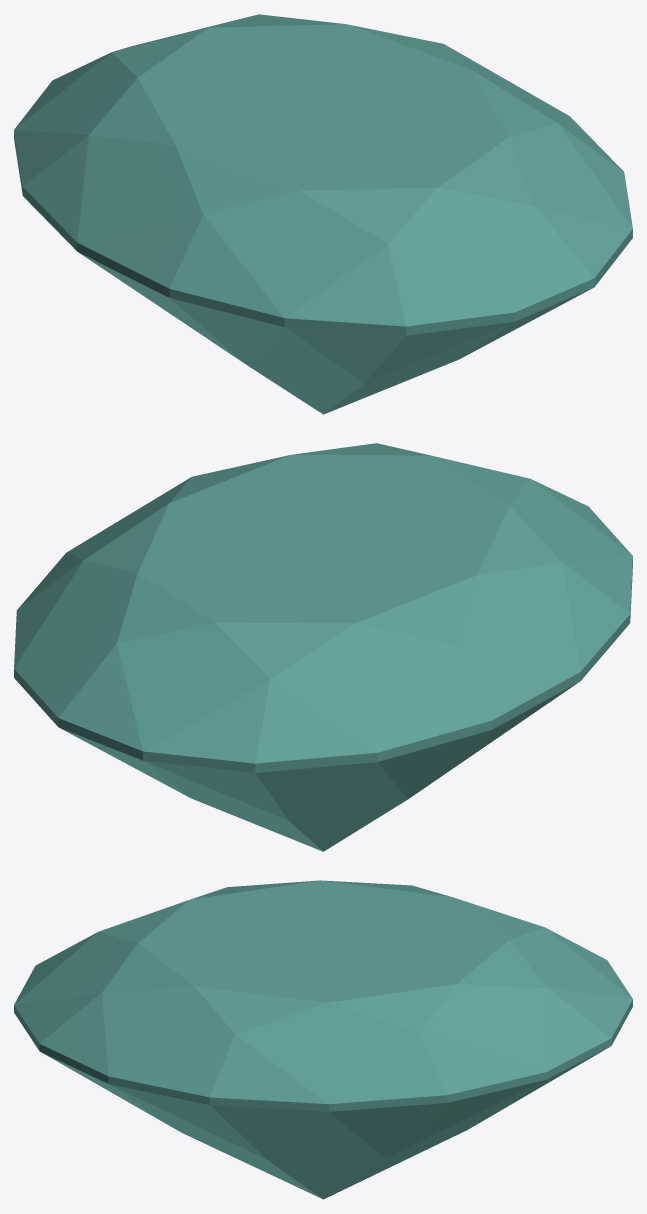
Rendered from stone-alexandrite.glb.
The picture shows the model from 3 angles, top to bottom: view 1: azimuth 30°, elevation 25°; view 2: azimuth 150°, elevation 25°; view 3: azimuth 270°, elevation 25°; orthographic projection. The views are drawn at different scales.
Parts seen in each view (by area): view 1: Gemstone Alexandrite; view 2: Gemstone Alexandrite; view 3: Gemstone Alexandrite.
Boxes of the visible parts, left/top/right/bottom form: Gemstone Alexandrite: left=14, top=14, right=632, bottom=414; Gemstone Alexandrite: left=14, top=443, right=632, bottom=851; Gemstone Alexandrite: left=14, top=880, right=632, bottom=1199.
Size of the model in its own units: 2 by 1.18 by 2.56.
